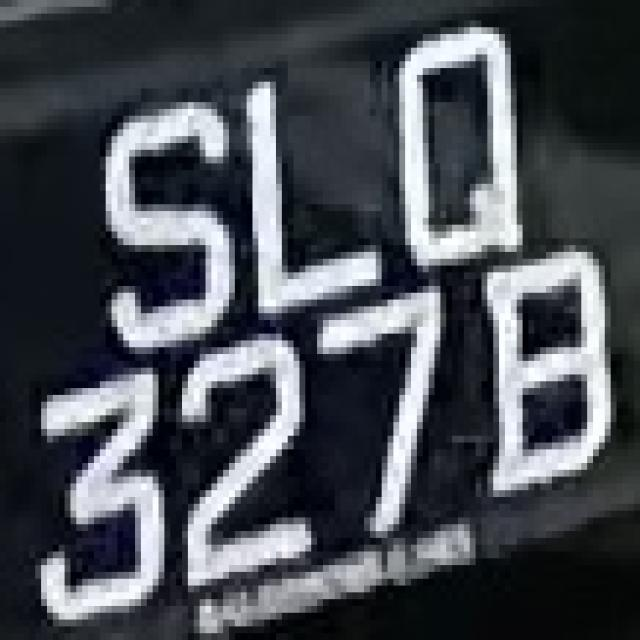2: (170, 340, 335, 606)
3: (37, 368, 167, 621), (0, 4, 2, 7)
7: (300, 265, 452, 538)
B: (482, 245, 622, 484)
L: (235, 68, 387, 320)
Q: (388, 21, 546, 272)
S: (82, 102, 241, 354)
